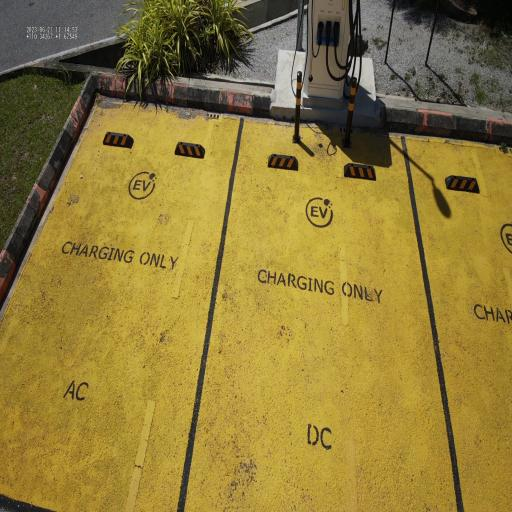Empty: (174, 105, 468, 512)
